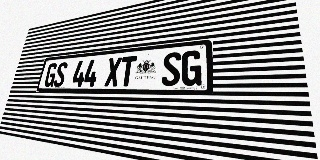4: (83, 59, 100, 87), (71, 60, 87, 87)
G: (181, 50, 202, 86), (43, 63, 58, 87)
S: (161, 52, 182, 86), (53, 62, 68, 87)
T: (118, 56, 137, 86)
X: (104, 57, 122, 86)
